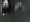person: (3, 2, 11, 17), (16, 4, 21, 16)
